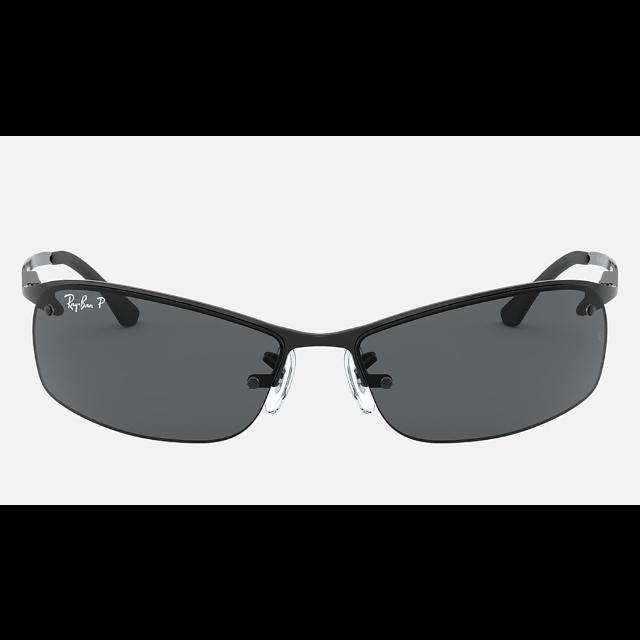Sunglasses: (19, 246, 618, 444)
